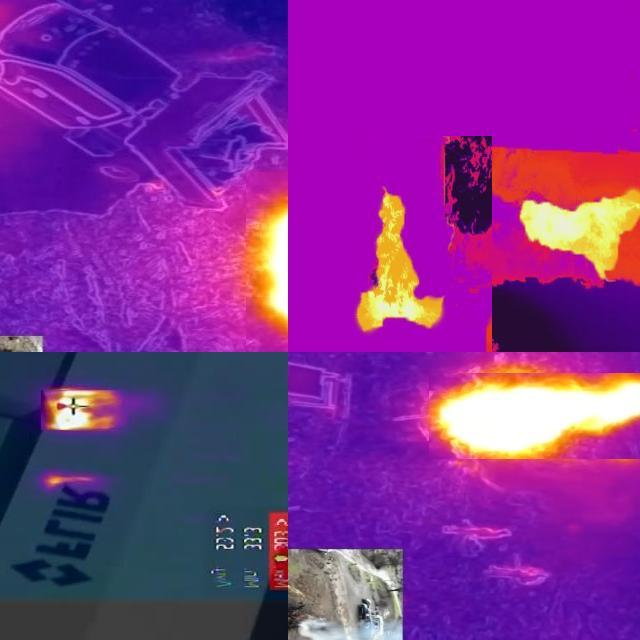fire: (428, 373, 640, 459), (340, 182, 447, 340), (518, 181, 640, 286), (246, 173, 289, 353), (41, 391, 125, 431)
